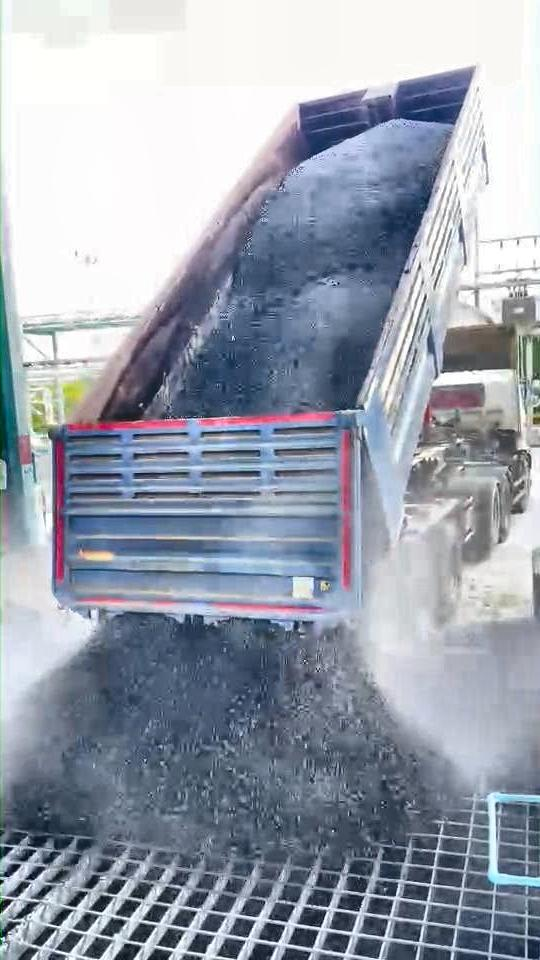gravel: (4, 617, 458, 854), (150, 120, 450, 416)
